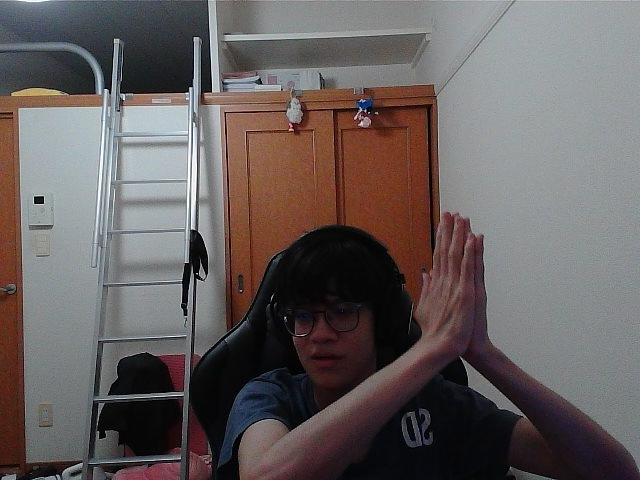pray: (422, 216, 474, 338)
